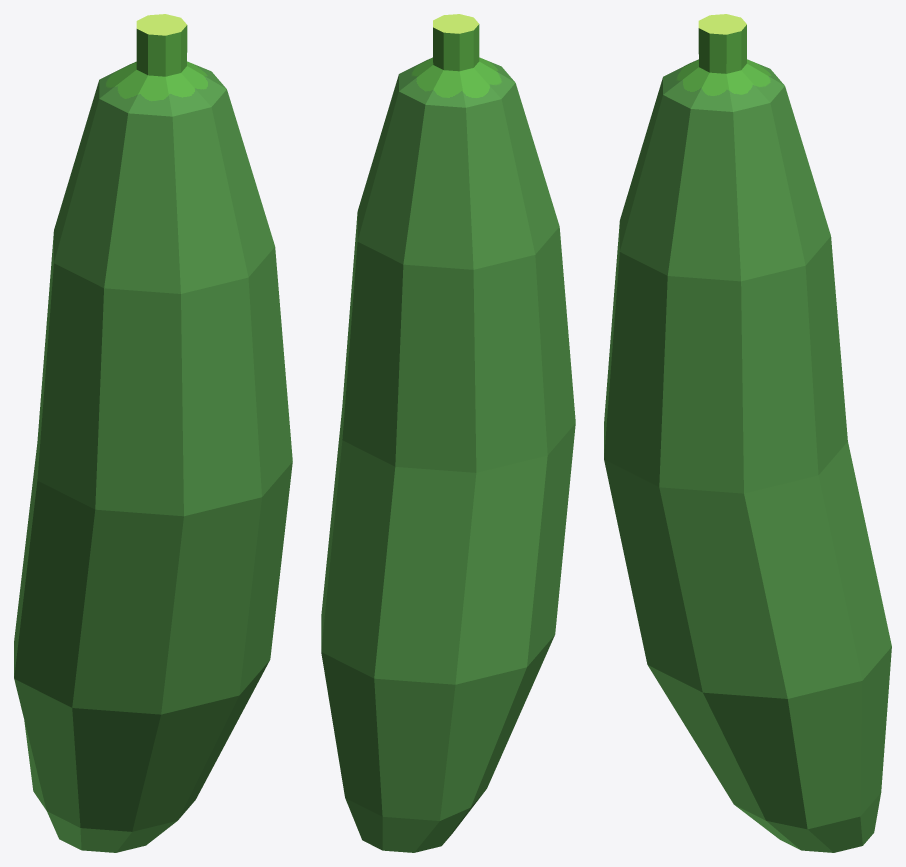
File: calabacita.fbx
3 views of the same model, side by side, from view 1: azimuth 30°, elevation 25°; view 2: azimuth 150°, elevation 25°; view 3: azimuth 270°, elevation 25° (orthographic). The views are drawn at different scales.
Visible parts, largest first — view 1: Sphere; view 2: Sphere; view 3: Sphere.
Boxes of the visible parts, x1,y1,x2,y2 form: Sphere: (14, 14, 292, 852); Sphere: (321, 14, 575, 852); Sphere: (604, 14, 891, 852).
Bounding box in the file's own units: 169 × 607 × 196.
